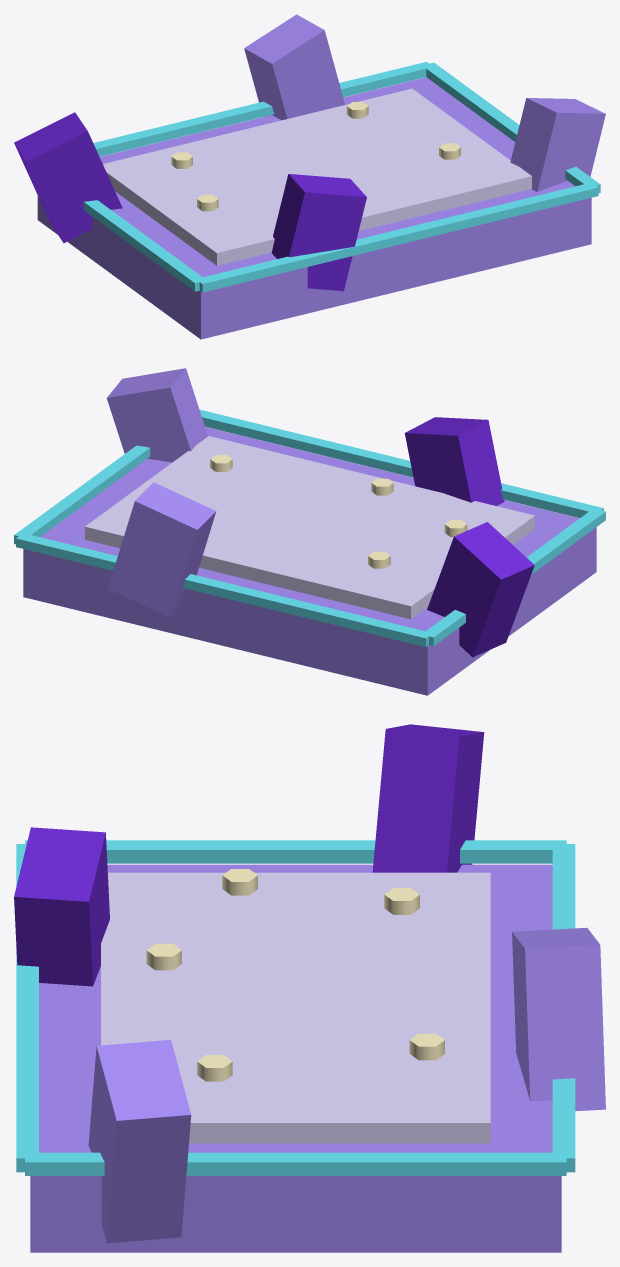
The model's file is toy_sky_crystal_shard.glb.
3 views of the same model, one above another, from view 1: azimuth 30°, elevation 25°; view 2: azimuth 150°, elevation 25°; view 3: azimuth 270°, elevation 25° (orthographic). The views are drawn at different scales.
Parts seen in each view (by area): view 1: solid_2, solid_1, solid_3, solid_6, solid_5, solid_4, solid_8, solid_7, solid_9, solid_10; view 2: solid_2, solid_1, solid_5, solid_3, solid_4, solid_6, solid_7, solid_8, solid_10, solid_9; view 3: solid_2, solid_1, solid_4, solid_5, solid_3, solid_6, solid_10, solid_9, solid_8, solid_7, solid_12, solid_13 (+3 smaller).
Part boxes in pixels (<box>): solid_2: <box>103,88,531,265</box>; solid_1: <box>37,77,591,339</box>; solid_3: <box>14,112,122,242</box>; solid_6: <box>271,174,366,291</box>; solid_5: <box>244,14,344,120</box>; solid_4: <box>510,98,605,191</box>; solid_8: <box>199,182,598,292</box>; solid_7: <box>93,61,432,156</box>; solid_9: <box>83,200,206,291</box>; solid_10: <box>422,62,600,192</box>; solid_2: <box>85,436,534,619</box>; solid_1: <box>23,427,596,695</box>; solid_5: <box>108,482,216,617</box>; solid_3: <box>427,522,534,657</box>; solid_4: <box>106,368,207,462</box>; solid_6: <box>404,417,504,505</box>; solid_7: <box>16,535,432,646</box>; solid_8: <box>199,409,603,517</box>; solid_10: <box>14,445,150,544</box>; solid_9: <box>422,508,605,646</box>; solid_2: <box>101,872,490,1143</box>; solid_1: <box>30,864,561,1252</box>; solid_4: <box>88,1039,191,1243</box>; solid_5: <box>512,927,605,1111</box>; solid_3: <box>372,724,484,872</box>; solid_6: <box>14,827,109,986</box>; solid_10: <box>25,1152,566,1175</box>; solid_9: <box>25,840,566,863</box>; solid_8: <box>16,844,38,1172</box>; solid_7: <box>552,844,575,1172</box>; solid_12: <box>409,1033,444,1060</box>; solid_13: <box>146,943,181,970</box>.
Size of the model in its own units: 3.63 by 0.9279 by 2.34.
